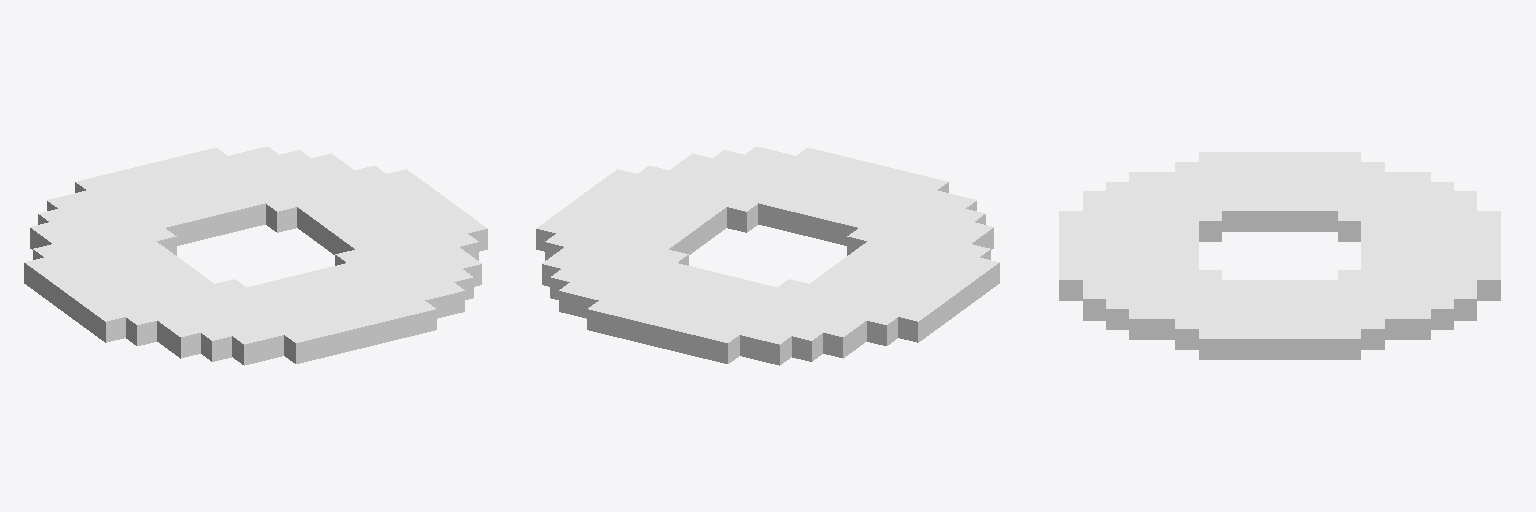
File: Projectile_Moto_Futuro.obj
3 views of the same model, side by side, from view 1: azimuth 30°, elevation 25°; view 2: azimuth 150°, elevation 25°; view 3: azimuth 270°, elevation 25° (orthographic).
Parts seen in each view (by area): view 1: object 1; view 2: object 1; view 3: object 1.
Part boxes in pixels (x1,y1,x2,y2): object 1: (24,146,487,365); object 1: (536,146,999,365); object 1: (1059,152,1500,359).
Size of the model in its own units: 1.9 by 0.1 by 1.9.